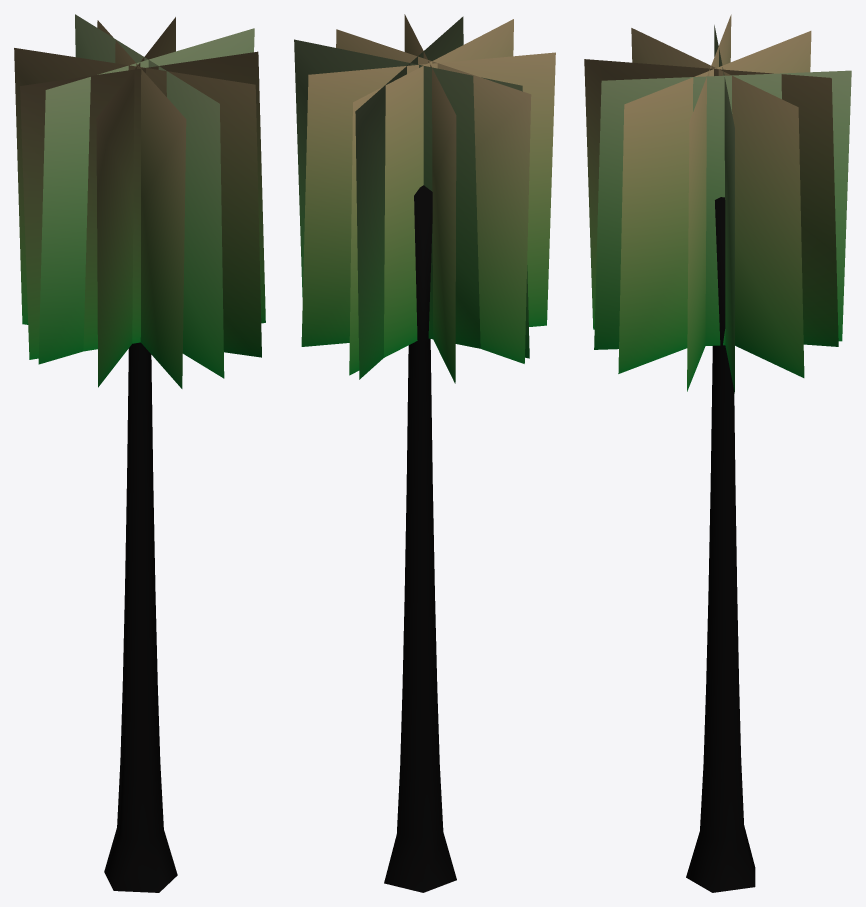
Rendered from Super_Palm_14.fbx.
The picture shows the model from 3 angles, left to right: view 1: azimuth 30°, elevation 25°; view 2: azimuth 150°, elevation 25°; view 3: azimuth 270°, elevation 25°; orthographic projection.
Parts seen in each view (by area): view 1: Tree_14; view 2: Tree_14; view 3: Tree_14.
Part boxes in pixels (x1=…): Tree_14: x1=14, y1=14, x2=265, y2=892; Tree_14: x1=294, y1=14, x2=555, y2=892; Tree_14: x1=584, y1=14, x2=851, y2=892.
Size of the model in its own units: 538 by 1776 by 533.
